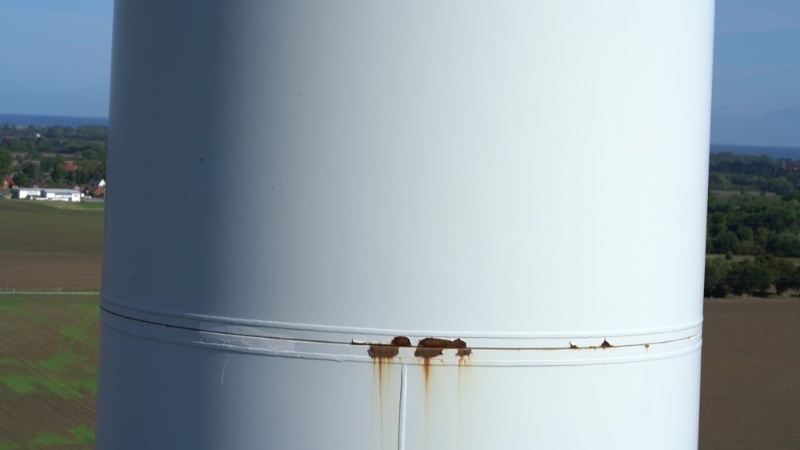weldseam: (97, 314, 703, 370), (97, 286, 703, 341), (393, 354, 410, 449)
